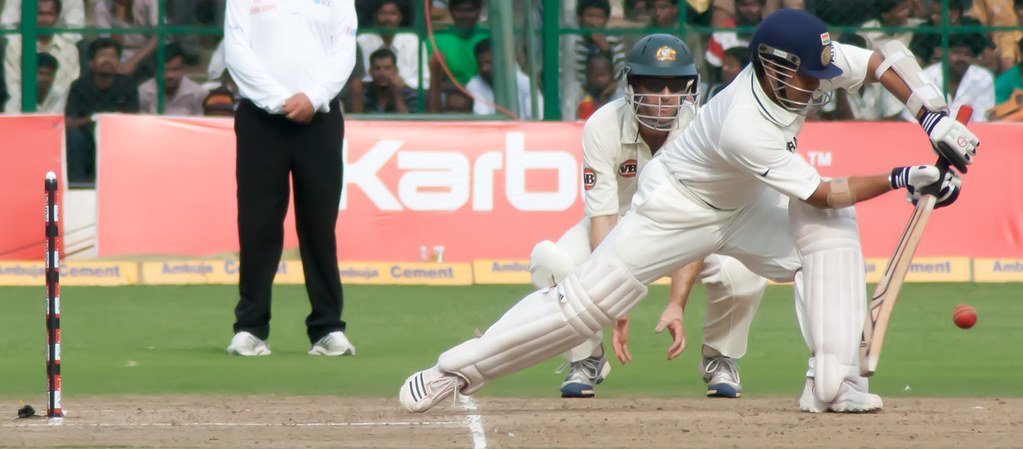Defence: (323, 2, 1023, 449)
